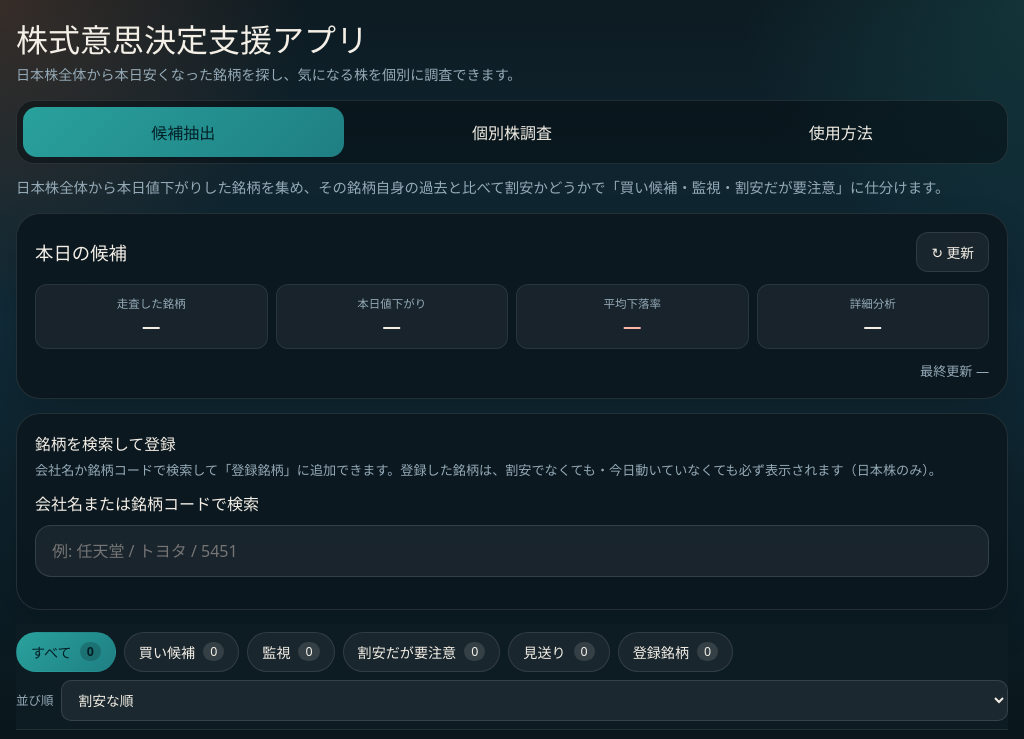
Test: App › 前回の結果を復元して表示しているときは「未実行」と出さない
Click the tab "個別株調査" at (512,132), box [352,107,672,157]
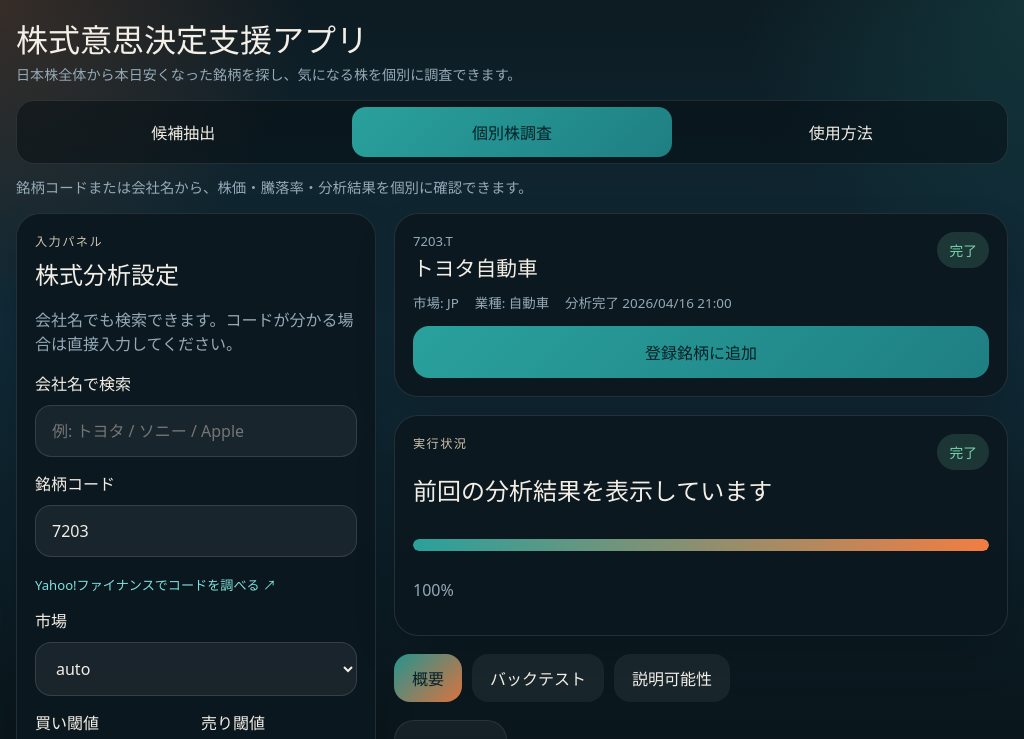
Check: the heading "前回の分析結果を表示しています" is shown, box [413,472,772,507]
